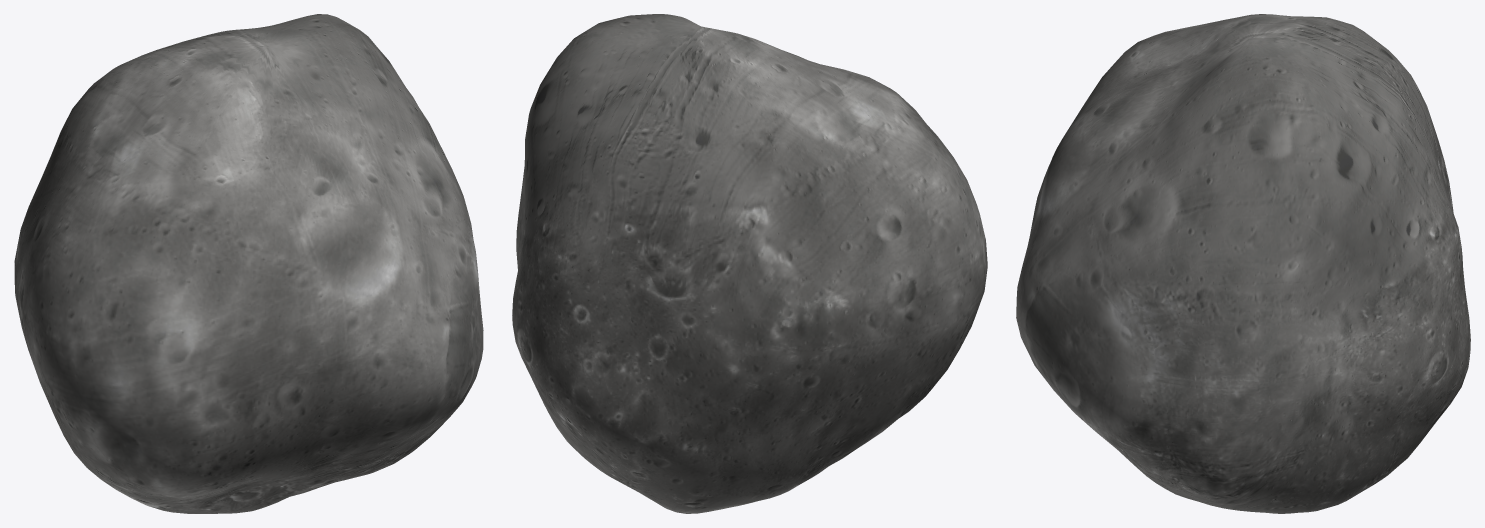
The model's file is phobos.gltf.
The picture shows the model from 3 angles, left to right: view 1: azimuth 30°, elevation 25°; view 2: azimuth 150°, elevation 25°; view 3: azimuth 270°, elevation 25°; orthographic projection. The views are drawn at different scales.
Parts seen in each view (by area): view 1: Sphere; view 2: Sphere; view 3: Sphere.
Boxes of the visible parts, x1,y1,x2,y2 form: Sphere: (14, 14, 483, 513); Sphere: (512, 14, 987, 513); Sphere: (1016, 14, 1470, 513).
Size of the model in its own units: 1.95 by 2.01 by 1.77.
1 material, 1 textured.
